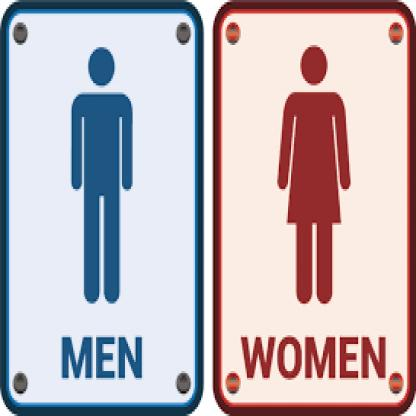toilet: (277, 44, 352, 309), (71, 37, 134, 308)
